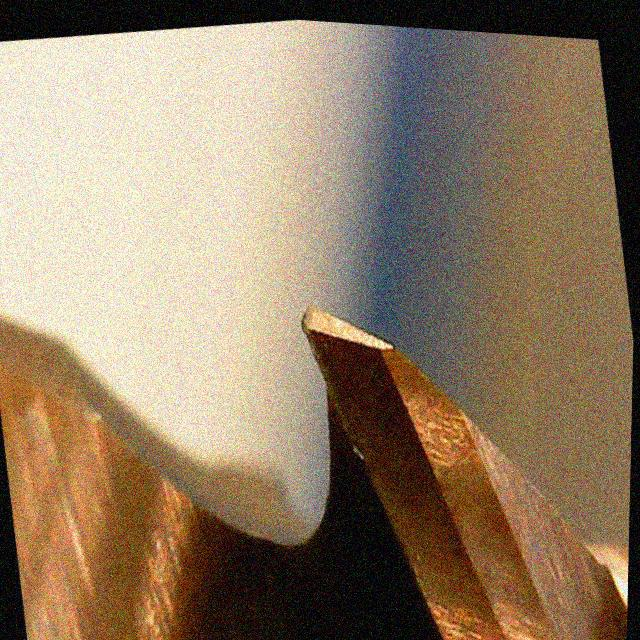Tool-wear-class-1: (275, 263, 472, 551)
